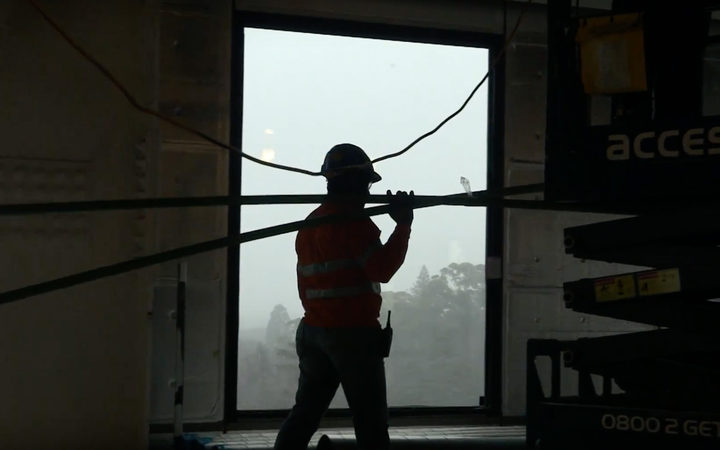hard hat: (320, 142, 382, 181)
high-vis: (297, 202, 383, 321)
